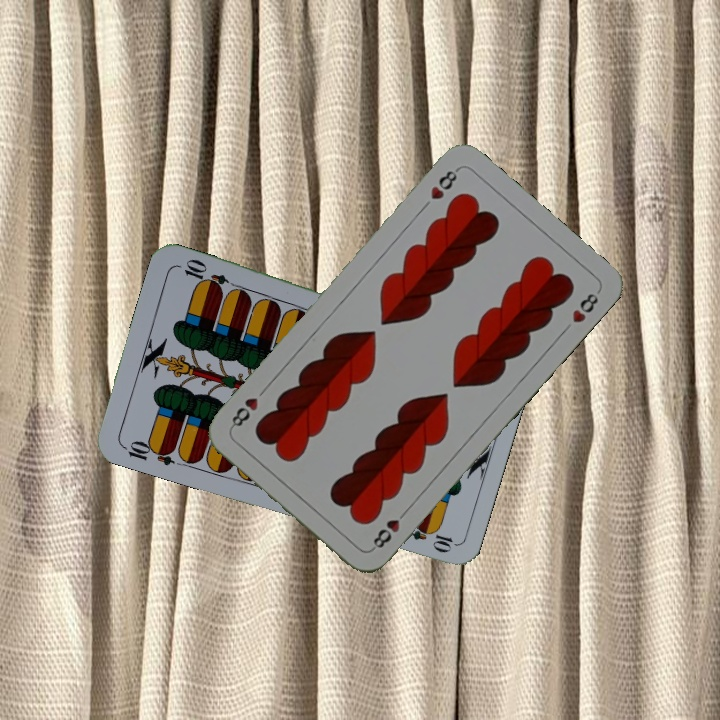E10: (118, 436, 178, 468)
H8: (367, 504, 411, 553), (426, 164, 462, 202)
